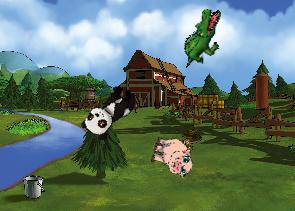crocodile: (183, 7, 221, 68)
panda: (78, 78, 141, 144)
pig: (147, 132, 197, 179)
